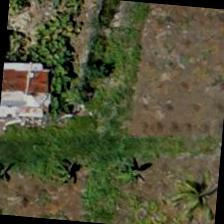Kelapa_Sawit: (151, 148, 221, 223)
